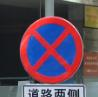No Parking: (20, 16, 83, 85)
